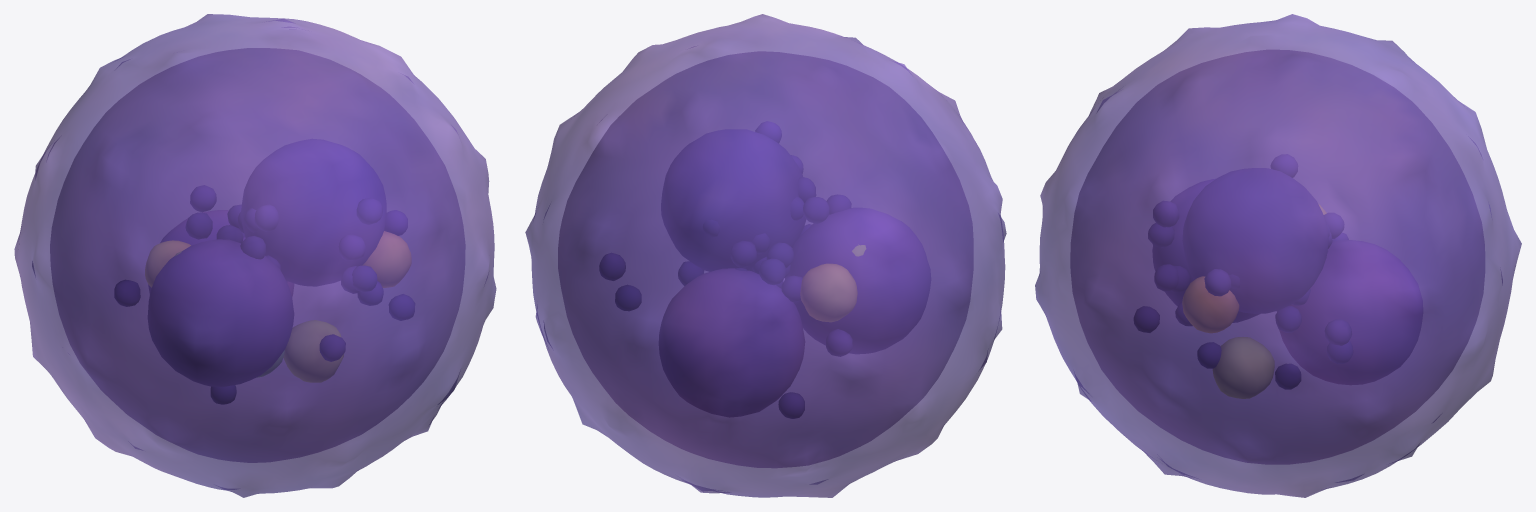
The model's file is lysosome.glb.
3 renders of one model, left to right at view 1: azimuth 30°, elevation 25°; view 2: azimuth 150°, elevation 25°; view 3: azimuth 270°, elevation 25°, orthographic.
Parts seen in each view (by area): view 1: lysosome-membrane, lysosome-contents; view 2: lysosome-membrane, lysosome-contents; view 3: lysosome-membrane, lysosome-contents.
Boxes of the visible parts, box(x1,y1,x2,y2) form: lysosome-membrane: box(14, 14, 496, 497); lysosome-contents: box(114, 139, 414, 404); lysosome-membrane: box(525, 14, 1006, 497); lysosome-contents: box(599, 121, 930, 418); lysosome-membrane: box(1035, 14, 1521, 497); lysosome-contents: box(1134, 154, 1422, 398).
Size of what is drawn, in the model's own units: 1.14 by 1.11 by 1.13.
